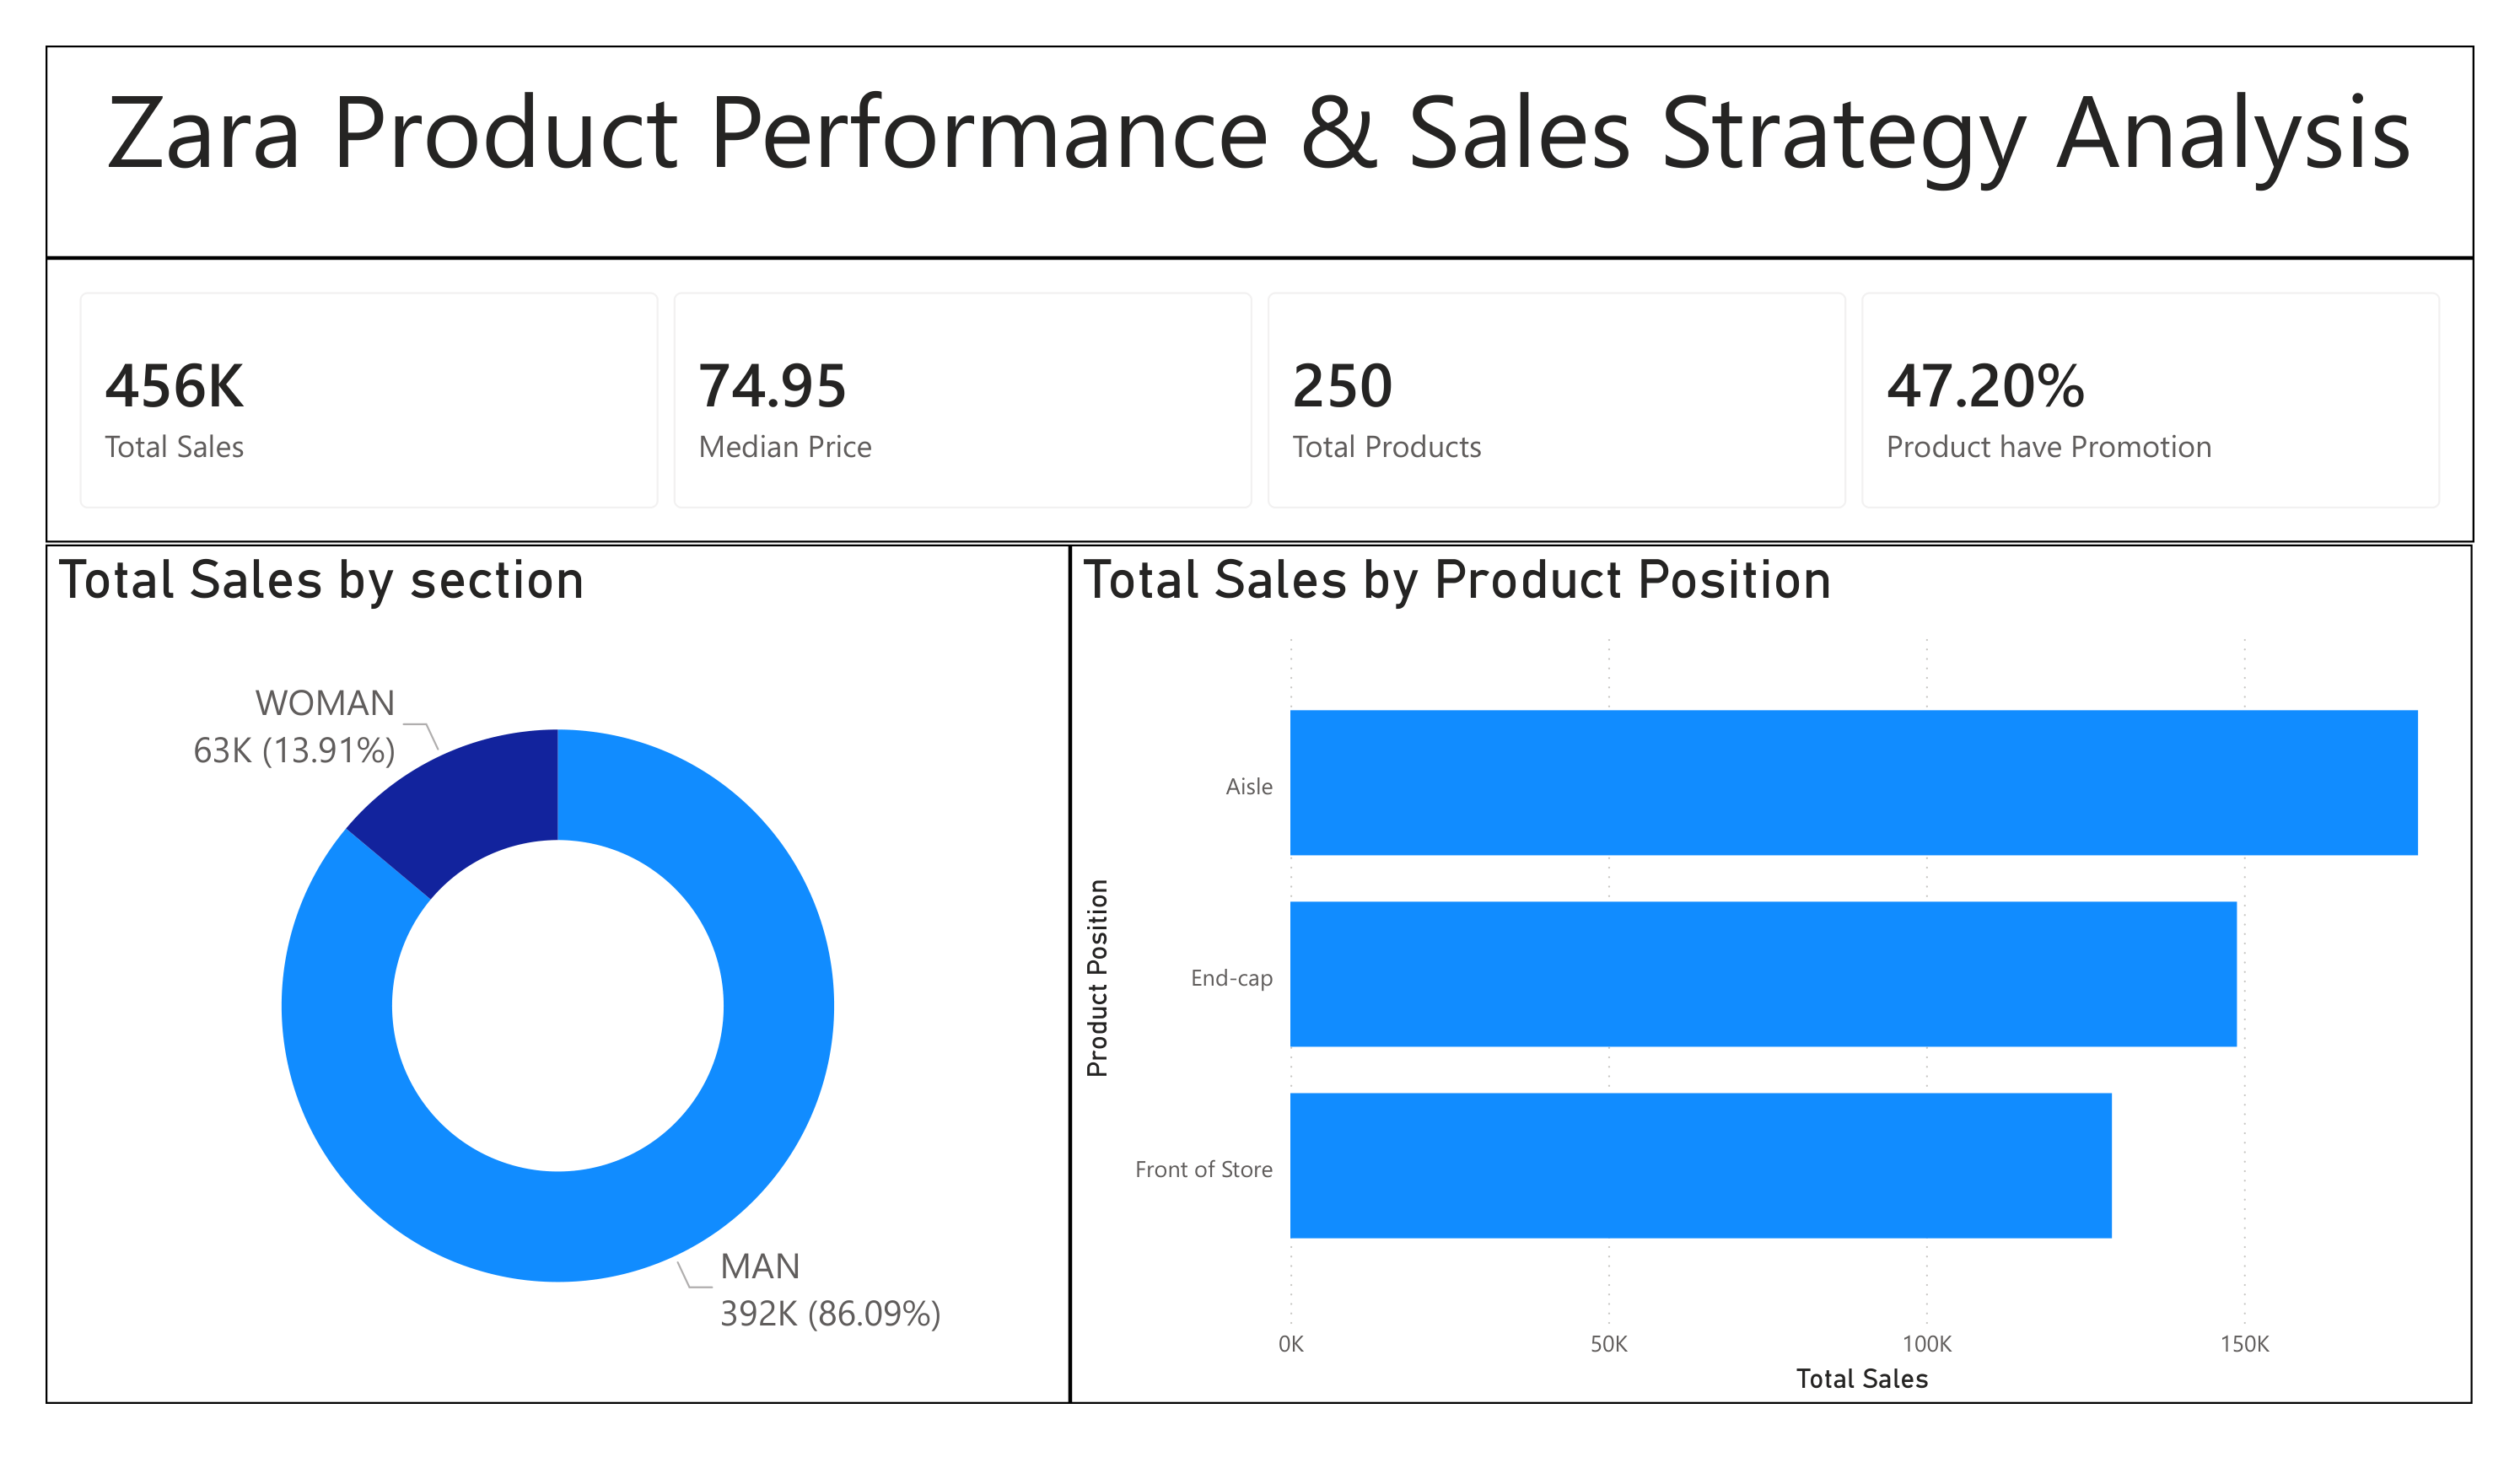

Layout of this report page (visuals, bound fields, positions):
{"tool":"powerbi","page":{"name":"Page 1","canvas":[1280,720],"ordinal":0},"visuals":[{"type":"textbox","box":[0,0,1280,112],"z":0},{"type":"cardVisual","fields":{"Data":["zara.Total Sales","zara.Median Price","zara.Total Products","zara.Promotion Product %"]},"box":[0,112,1280,150],"z":1},{"type":"donutChart","title":"Total Sales by section","fields":{"Category":["zara.section"],"Y":["zara.Total Sales"]},"box":[0,262.7,540.5,453.5],"z":2},{"type":"barChart","title":"Total Sales by Product Position","fields":{"Category":["zara.Product Position"],"Y":["zara.Total Sales"]},"box":[540.5,262.7,738.9,453.5],"z":3}]}

Visuals, with their boxes in screenshot pixels (x1, y1, x2, y2), scaled from the page's 1280x720 canvas onto the 2520x1457 screenshot:
textbox: [0,0,2519,227]
cardVisual - zara.Total Sales x zara.Median Price: [0,227,2519,530]
"Total Sales by section" donutChart: [0,531,1064,1449]
"Total Sales by Product Position" barChart: [1064,531,2519,1449]
